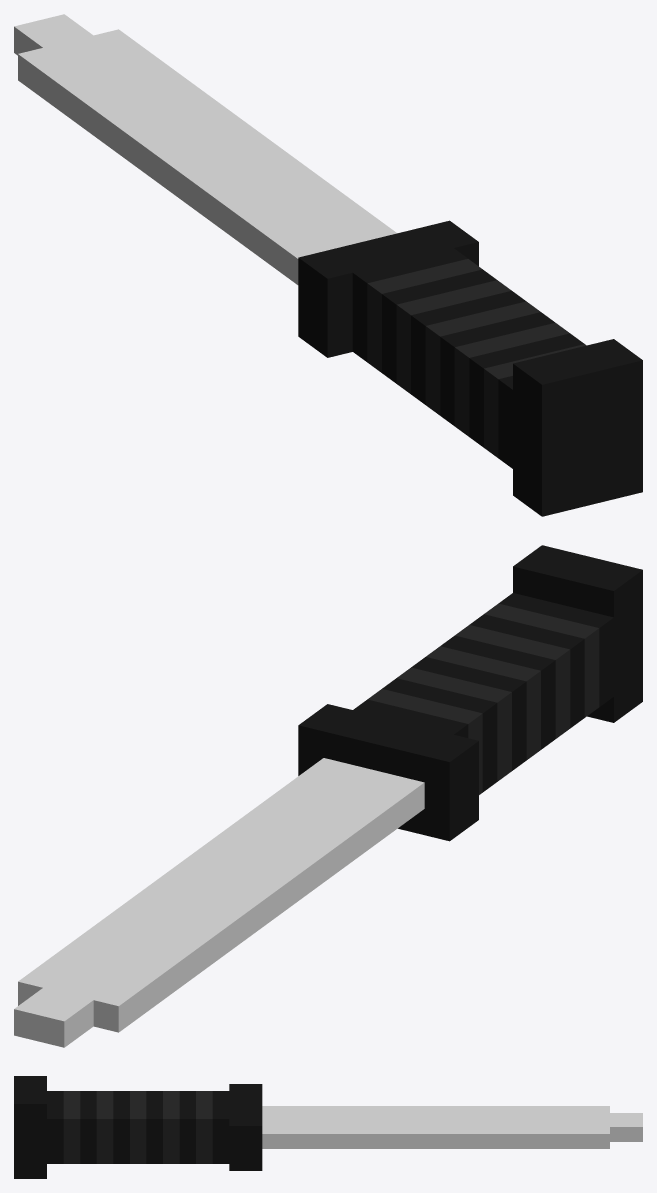
The model's file is Voxel Universe Objects-21.obj.
3 views of the same model, one above another, from view 1: azimuth 30°, elevation 25°; view 2: azimuth 150°, elevation 25°; view 3: azimuth 270°, elevation 25° (orthographic). The views are drawn at different scales.
Bounding box in the file's own units: 0.6 × 0.5 × 3.8.
Materials: 1 (1 with a texture image).
